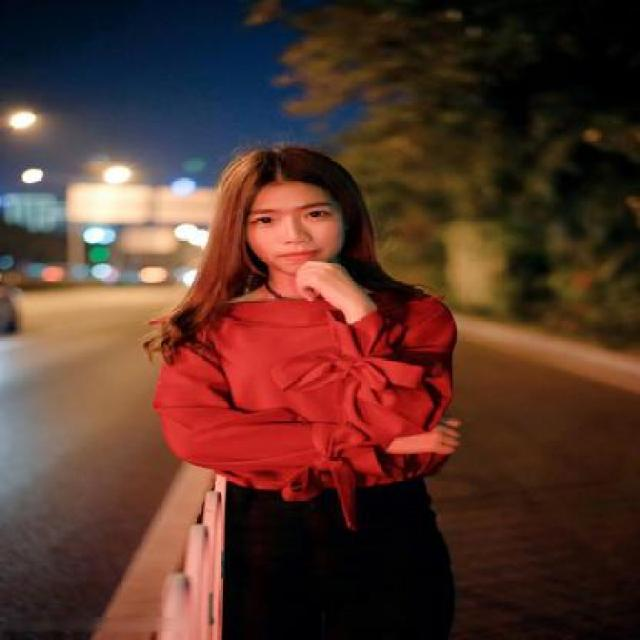Person: (201, 141, 508, 639)
